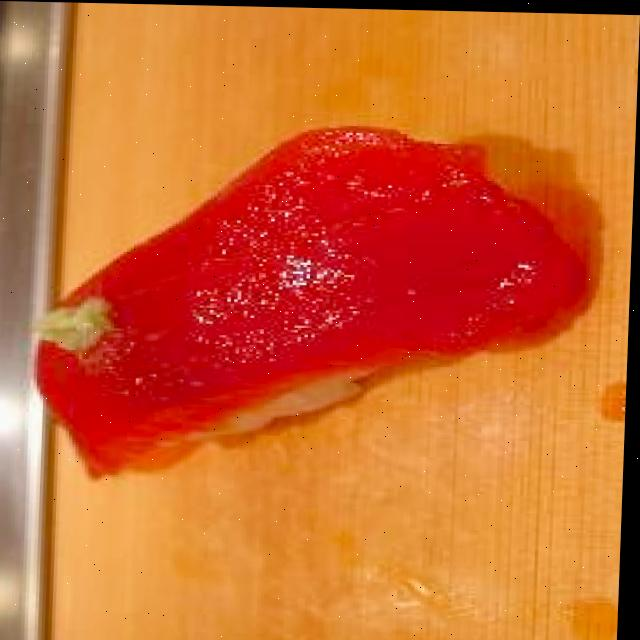寿司卷物: (6, 110, 609, 507)
